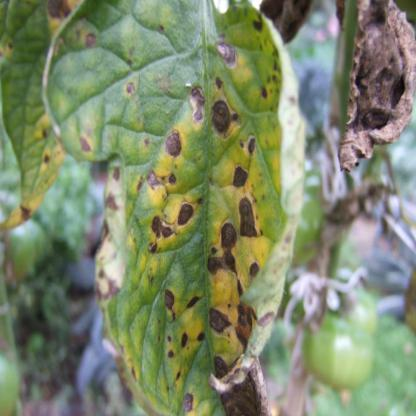Tomato Early blight leaf: (43, 6, 288, 408)
